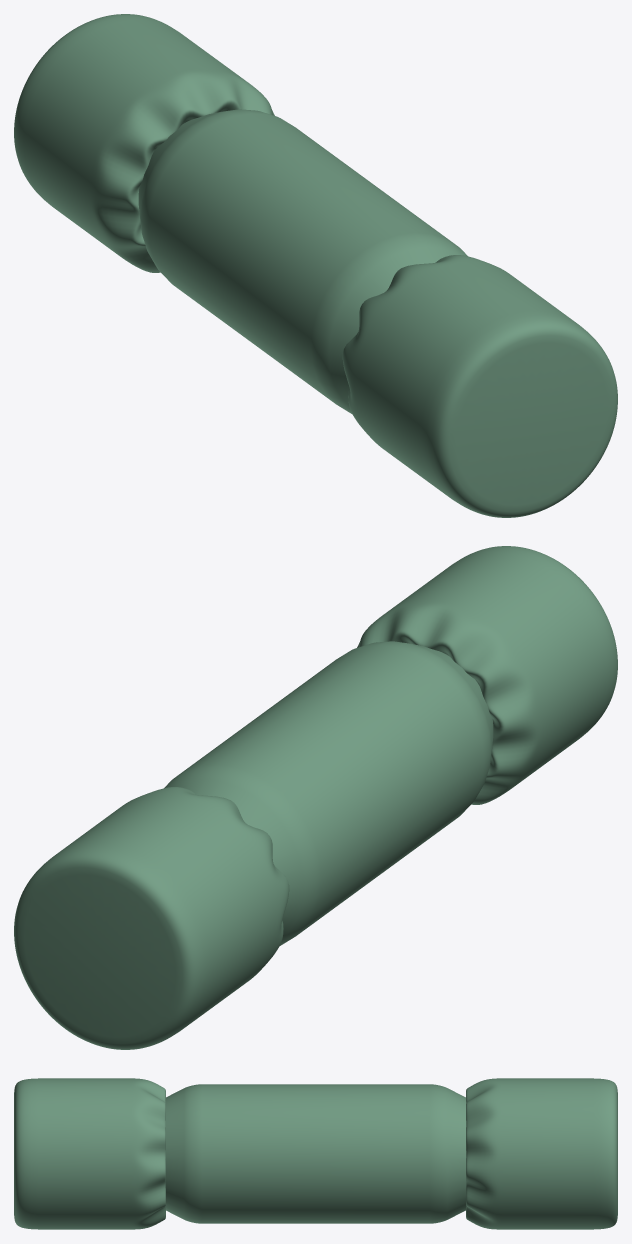
File: consumable_fuse_micro_green_a01.glb
3 views of the same model, one above another, from view 1: azimuth 30°, elevation 25°; view 2: azimuth 150°, elevation 25°; view 3: azimuth 270°, elevation 25° (orthographic). The views are drawn at different scales.
Size of the model in its own units: 0.0132 by 0.0132 by 0.053.
